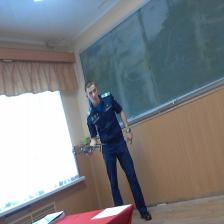drone: (70, 138, 109, 160)
